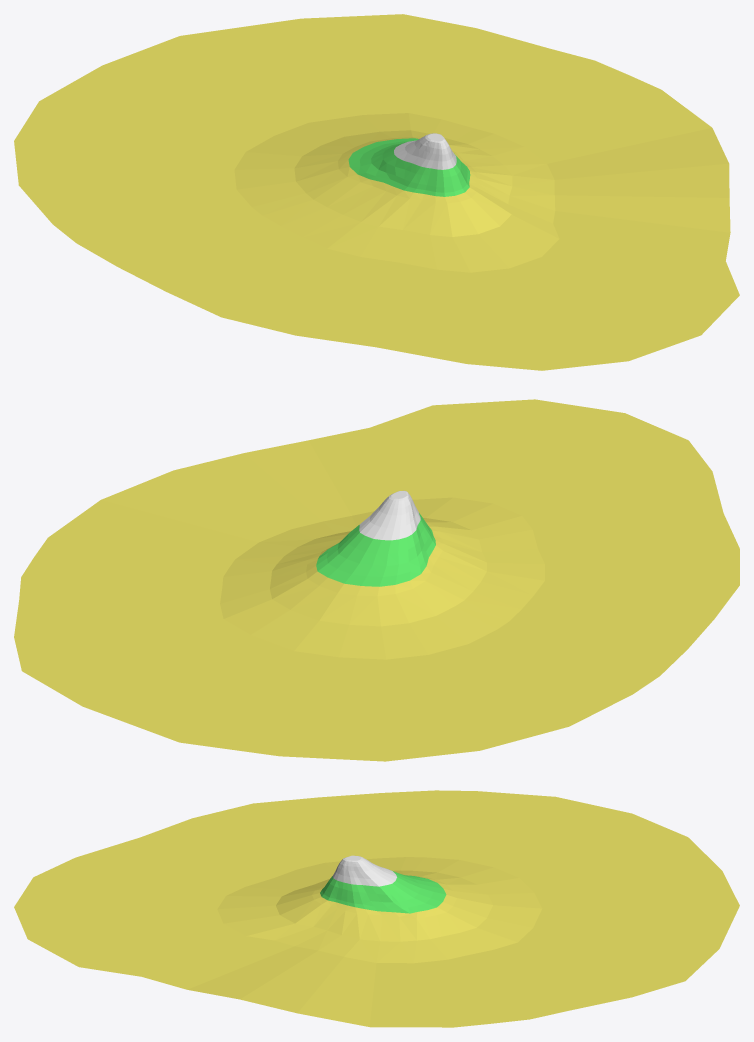
The model's file is IslandTris 1.fbx.
3 renders of one model, top to bottom at view 1: azimuth 30°, elevation 25°; view 2: azimuth 150°, elevation 25°; view 3: azimuth 270°, elevation 25°, orthographic. The views are drawn at different scales.
Visible parts, largest first — view 1: Island_Tris; view 2: Island_Tris; view 3: Island_Tris.
Boxes of the visible parts, box(x1,y1,x2,y2) form: Island_Tris: box(14, 14, 739, 370); Island_Tris: box(14, 399, 739, 761); Island_Tris: box(14, 790, 739, 1027).
Bounding box in the file's own units: 6318 × 683 × 8176.
